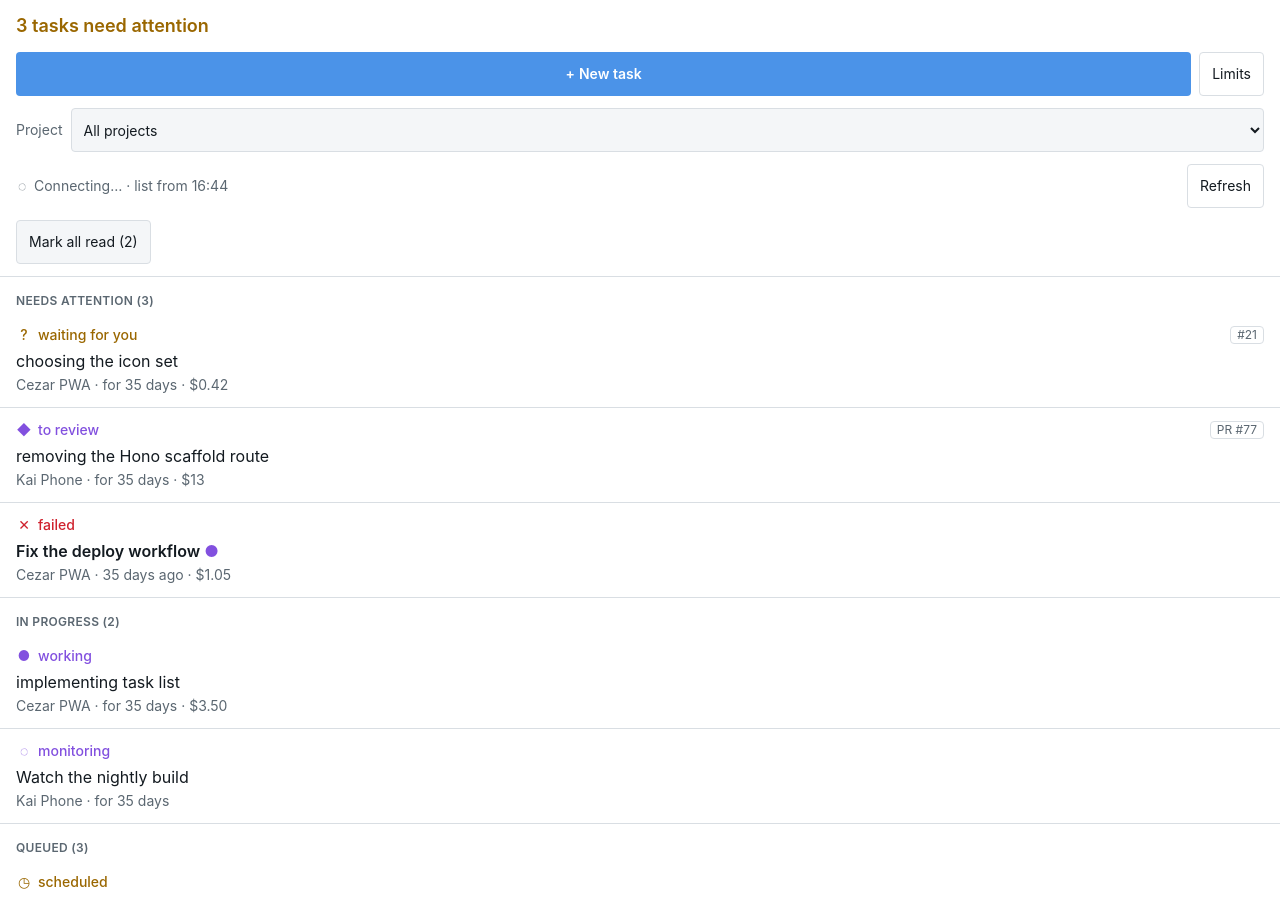
Test case: project filter (FR-013) › narrows the list to one project, and still says what waits elsewhere
Select "Kai Phone" in the dropdown labelled "Project" at x=667, y=130, box left=70, top=108, right=1264, bottom=152
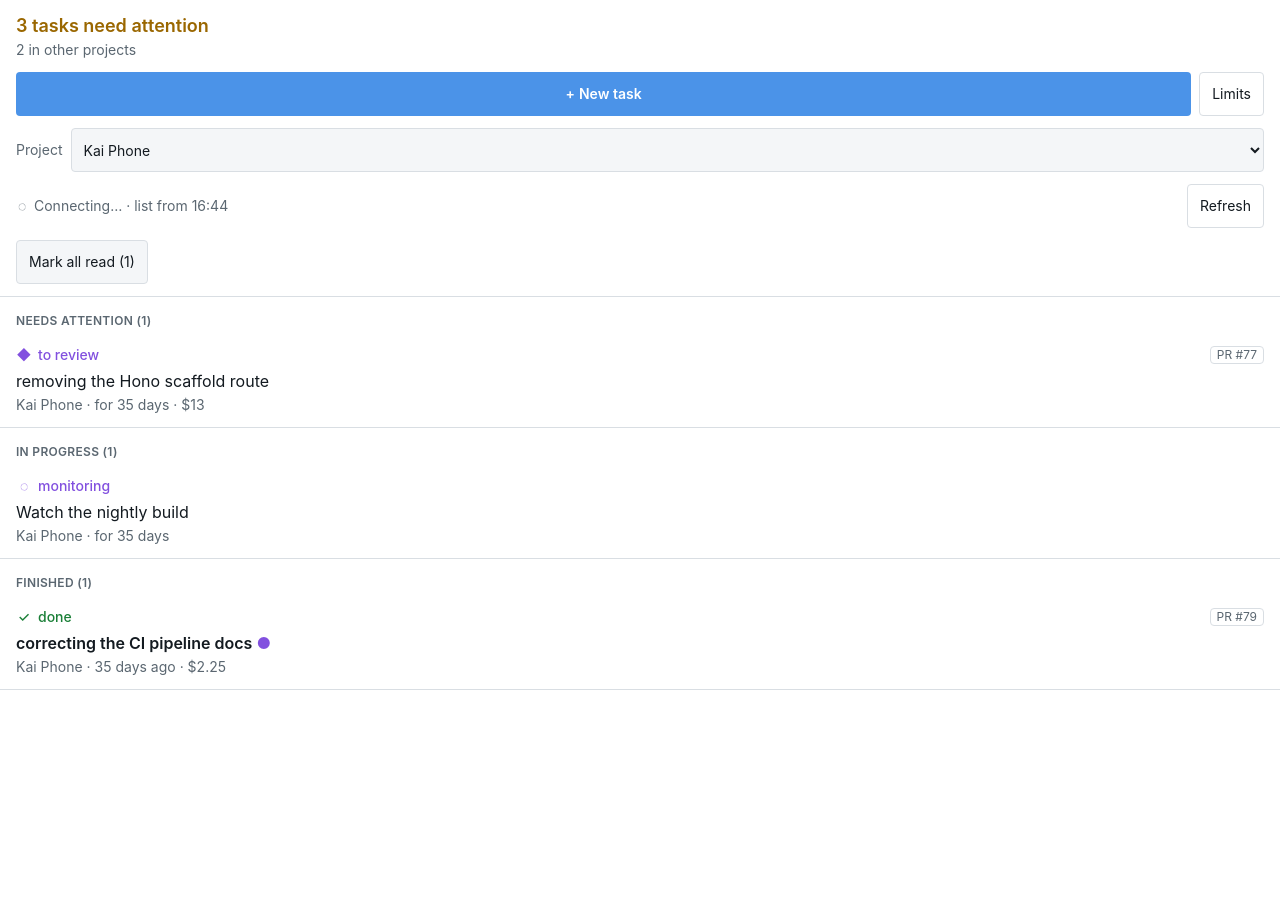
Expected: the heading "3 tasks need attention" is shown, left=16, top=15, right=209, bottom=36
Now the heading "Queued" is gone
